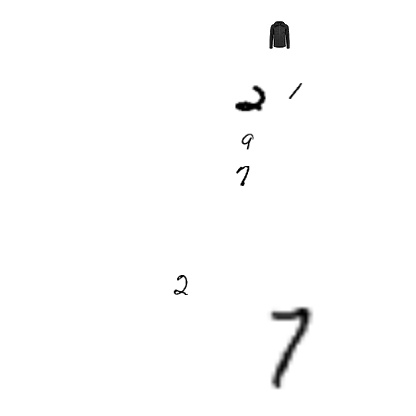1: (284, 80, 306, 102)
2: (231, 81, 273, 123), (167, 271, 195, 299)
7: (232, 280, 344, 392), (229, 160, 257, 188)
9: (236, 129, 258, 151)
Coat: (265, 21, 293, 49)
